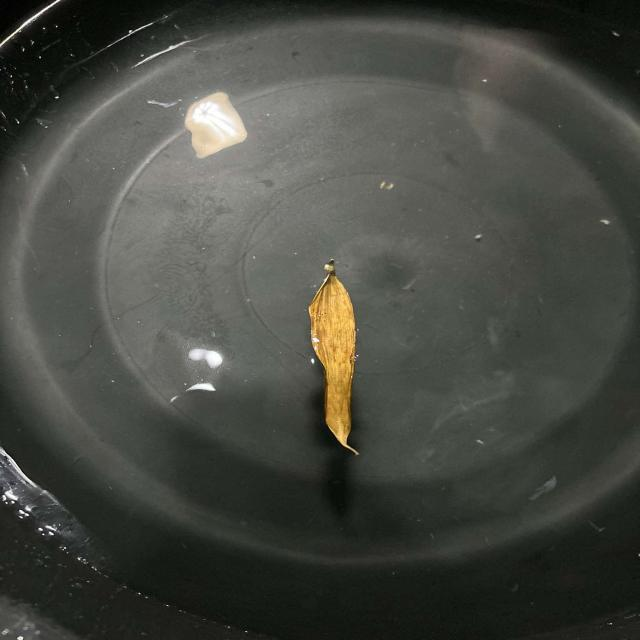Leaf: (294, 252, 384, 465)
